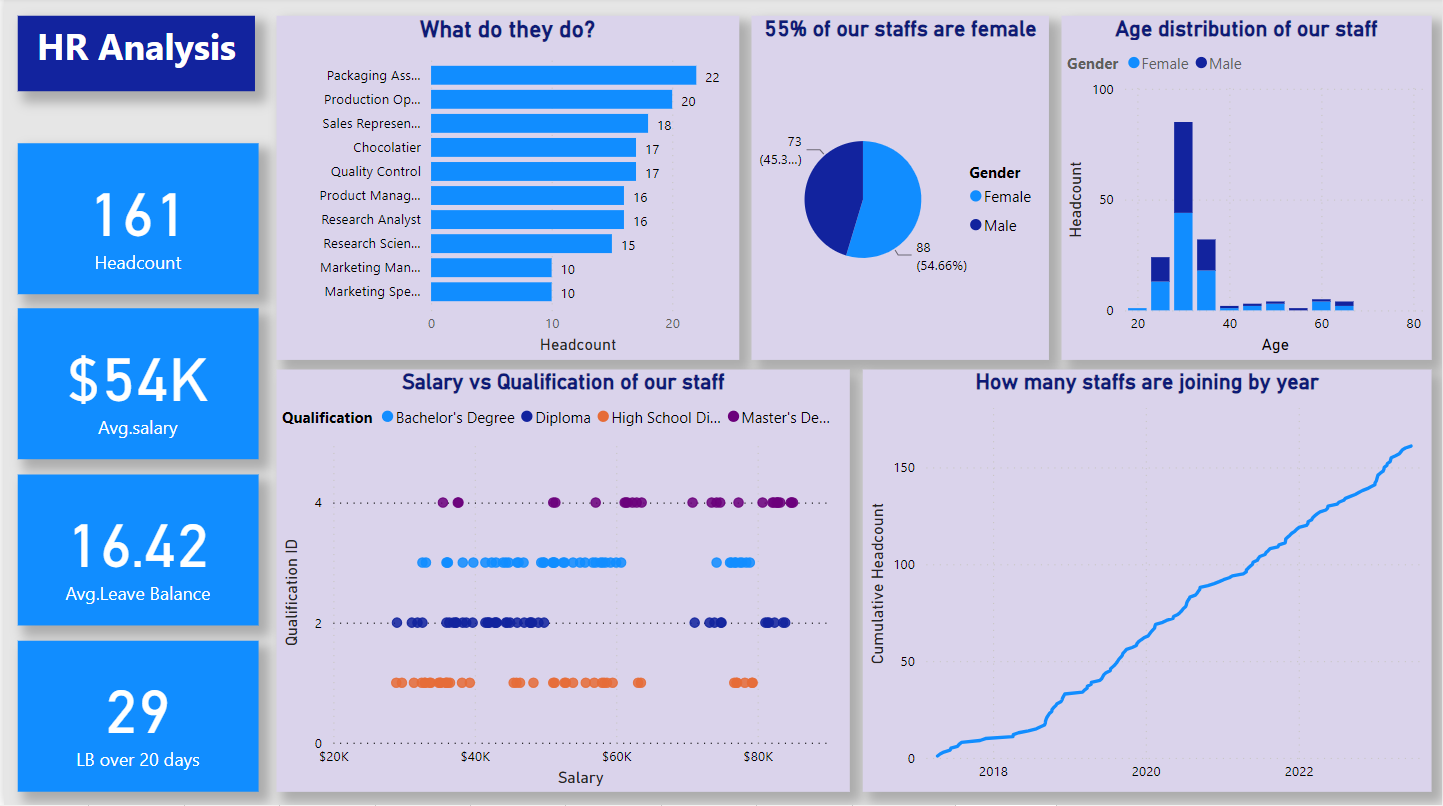

The page's visual inventory and layout, read from the dashboard file:
{"tool":"powerbi","page":{"name":"Page 11","canvas":[1280,720],"ordinal":10},"visuals":[{"type":"card","fields":{"Values":["staff.Headcount"]},"box":[12.3,130.4,214.1,134.5],"z":0},{"type":"card","fields":{"Values":["staff.Avg.salary"]},"box":[12.3,277.2,214.1,134.5],"z":1000},{"type":"card","fields":{"Values":["staff.Avg.Leave Balance"]},"box":[12.3,425.4,214.1,134.5],"z":2000},{"type":"card","fields":{"Values":["staff.LB over 20 days"]},"box":[12.3,573.6,214.1,134.5],"z":3000},{"type":"textbox","box":[12.3,16.5,211.3,67.2],"z":4000},{"type":"clusteredBarChart","title":"What do they do?","fields":{"Category":["staff.Job Title"],"Y":["staff.Headcount"]},"box":[242.9,16.5,411.7,306],"z":5000},{"type":"pieChart","title":"55% of our staffs are female","fields":{"Category":["staff.Gender"],"Y":["staff.Headcount"]},"box":[665.5,16.5,264.8,306],"z":6000},{"type":"columnChart","title":"Age distribution of our staff","fields":{"Y":["staff.Headcount"],"Category":["staff.Age (bins)"],"Series":["staff.Gender"]},"box":[941.3,16.5,329.3,306],"z":7000},{"type":"scatterChart","title":"Salary vs Qualification of our staff","fields":{"X":["staff.Salary"],"Y":["Quali.Qualification ID"],"Series":["Quali.Qualification"]},"box":[242.9,332.1,510.5,376],"z":8000},{"type":"lineChart","title":"How many staffs are joining by year","fields":{"Y":["staff.Cumulative Headcount"],"Category":["staff.Date of Join"]},"box":[764.3,332.1,506.3,376],"z":9000}]}

Visuals, with their boxes in screenshot pixels (x1, y1, x2, y2), scaled from the page's 1280x720 canvas onto the 1443x806 screenshot:
card - staff.Headcount: bbox(14, 146, 255, 297)
card - staff.Avg.salary: bbox(14, 310, 255, 461)
card - staff.Avg.Leave Balance: bbox(14, 476, 255, 627)
card - staff.LB over 20 days: bbox(14, 642, 255, 793)
textbox: bbox(14, 18, 252, 94)
"What do they do?" clusteredBarChart: bbox(274, 18, 738, 361)
"55% of our staffs are female" pieChart: bbox(750, 18, 1049, 361)
"Age distribution of our staff" columnChart: bbox(1061, 18, 1432, 361)
"Salary vs Qualification of our staff" scatterChart: bbox(274, 372, 849, 793)
"How many staffs are joining by year" lineChart: bbox(862, 372, 1432, 793)
